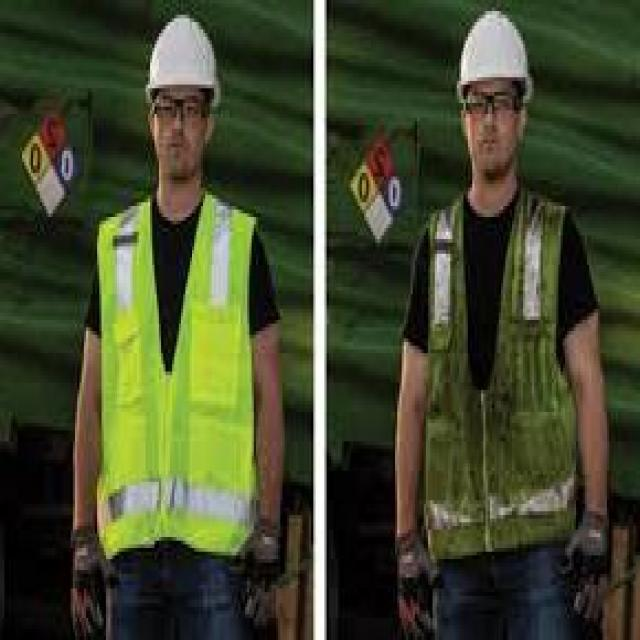Reflective-Jacket: (390, 173, 602, 577), (84, 188, 276, 581)
Safety-Helmet: (444, 4, 545, 114), (137, 7, 229, 118)
